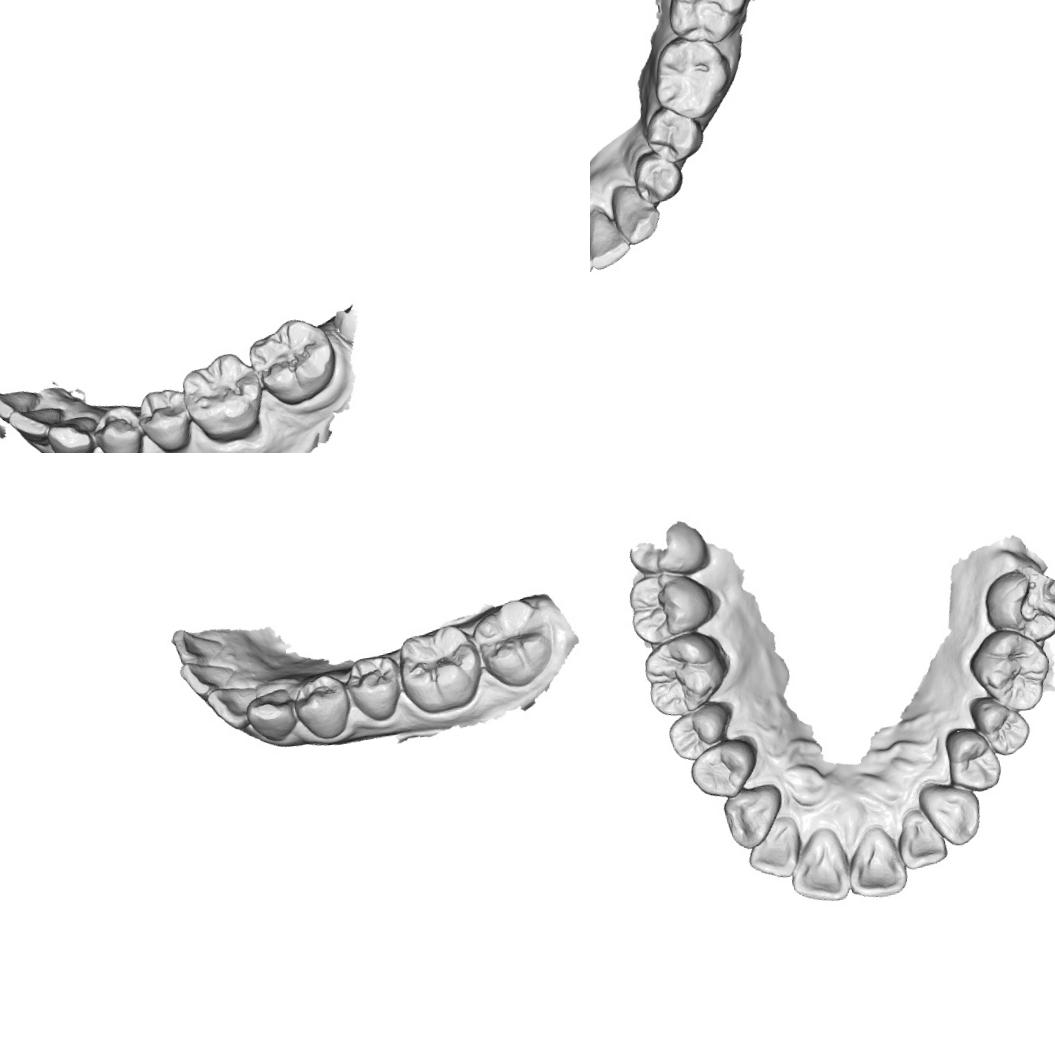canine: (915, 774, 986, 850), (720, 782, 788, 851), (610, 180, 665, 248), (242, 685, 301, 747), (44, 412, 106, 453)
incisor: (784, 824, 855, 908), (841, 822, 910, 902), (742, 812, 807, 883), (894, 804, 951, 872), (590, 202, 634, 272), (204, 681, 260, 735), (177, 656, 240, 702), (6, 402, 68, 448), (168, 622, 228, 668), (0, 385, 45, 424)
molar: (244, 310, 344, 414), (392, 618, 488, 719), (177, 348, 268, 450), (639, 626, 735, 720), (468, 594, 557, 693), (964, 621, 1055, 717), (646, 32, 738, 126), (624, 565, 723, 648), (979, 559, 1055, 650), (663, 0, 755, 50)
premolar: (288, 669, 357, 744), (340, 651, 408, 727), (686, 736, 762, 804), (663, 698, 740, 764), (965, 690, 1034, 760), (941, 722, 1004, 797), (134, 382, 197, 453), (641, 102, 706, 167), (630, 146, 688, 209), (89, 400, 147, 453)
